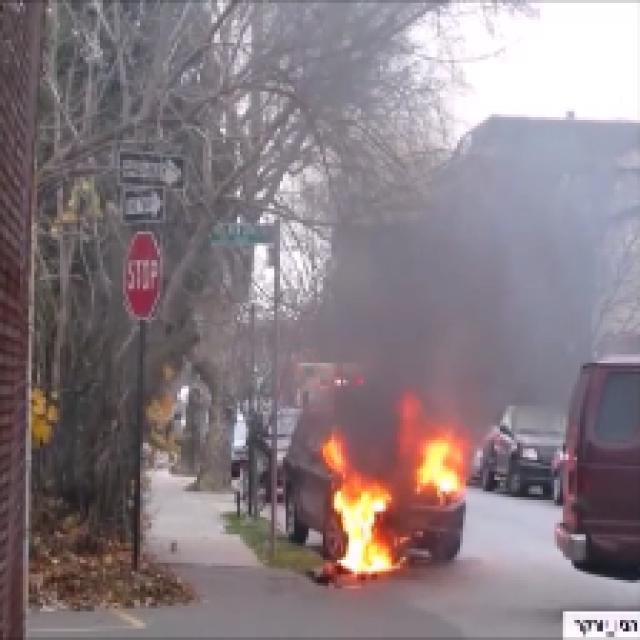fire: (320, 457, 402, 575), (415, 432, 464, 505)
smoke: (337, 235, 551, 415)
